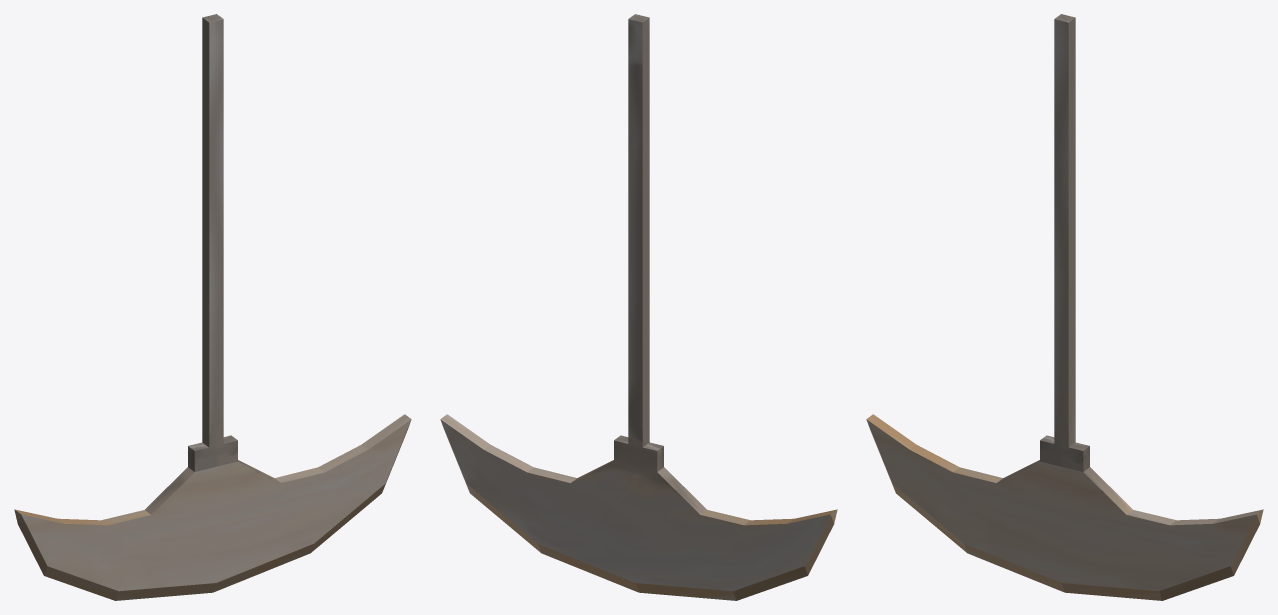
File: sallanan_bicak.fbx
3 renders of one model, left to right at view 1: azimuth 30°, elevation 25°; view 2: azimuth 150°, elevation 25°; view 3: azimuth 330°, elevation 25°, orthographic.
Visible parts, largest first — view 1: sallanan bicak; view 2: sallanan bicak; view 3: sallanan bicak.
Boxes of the visible parts, x1=… form: sallanan bicak: x1=14, y1=14, x2=411, y2=600; sallanan bicak: x1=440, y1=14, x2=837, y2=600; sallanan bicak: x1=866, y1=14, x2=1263, y2=600.
Bounding box in the file's own units: 8.48 × 11.92 × 0.2604.
Materials: 1 (1 with a texture image).
